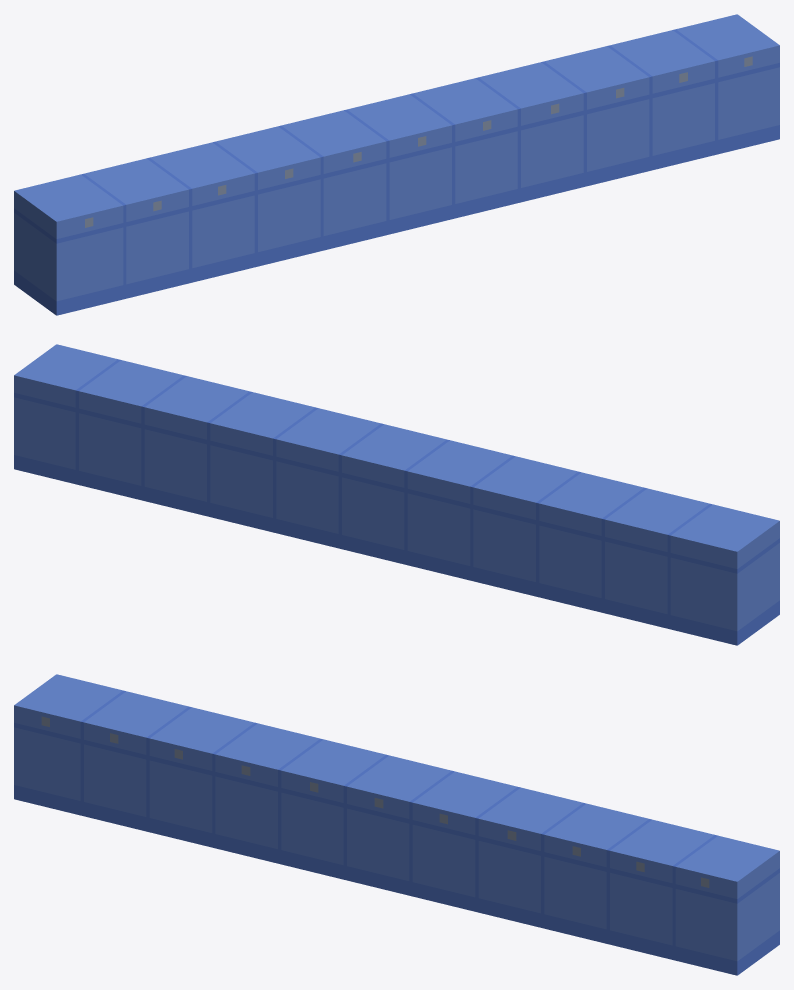
The model's file is Metall_Dark.fbx.
The picture shows the model from 3 angles, top to bottom: view 1: azimuth 30°, elevation 25°; view 2: azimuth 150°, elevation 25°; view 3: azimuth 330°, elevation 25°; orthographic projection.
Parts seen in each view (by area): view 1: Cube.024; view 2: Cube.024; view 3: Cube.024.
Part boxes in pixels (left/top/right/bottom): Cube.024: left=14, top=14, right=779, bottom=315; Cube.024: left=14, top=344, right=779, bottom=645; Cube.024: left=14, top=674, right=779, bottom=975.
Size of the model in its own units: 342 by 42.43 by 35.15.
